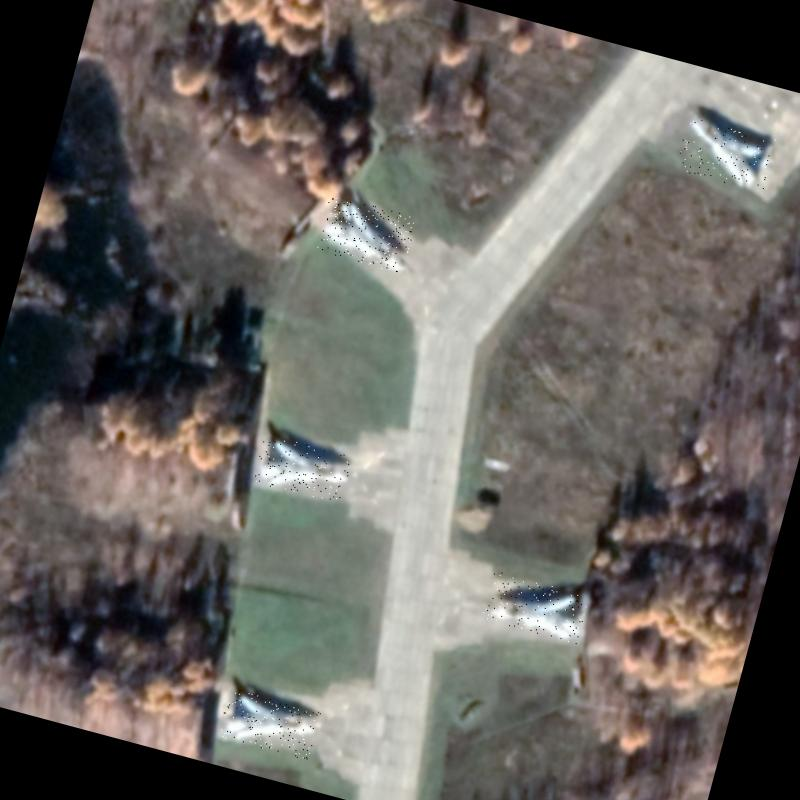A20: (315, 194, 417, 274), (481, 570, 589, 644), (674, 116, 776, 193), (217, 686, 321, 760), (252, 433, 354, 505)
